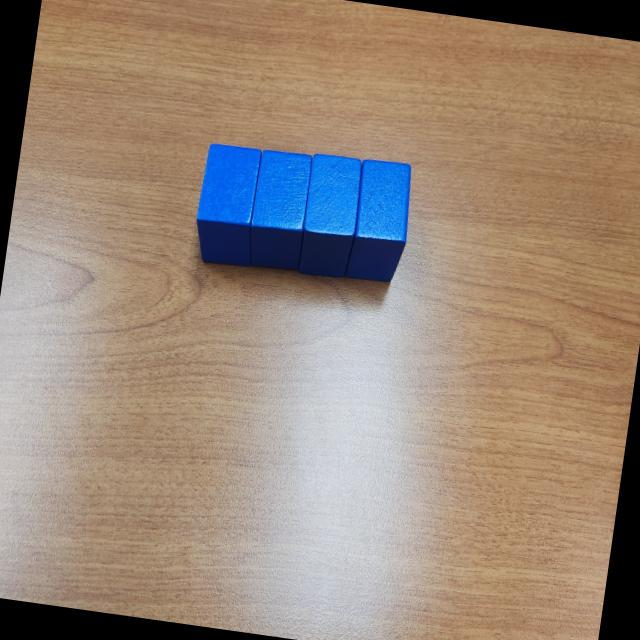blue: (190, 141, 266, 270), (345, 156, 418, 286), (243, 146, 316, 274), (296, 152, 366, 281)
